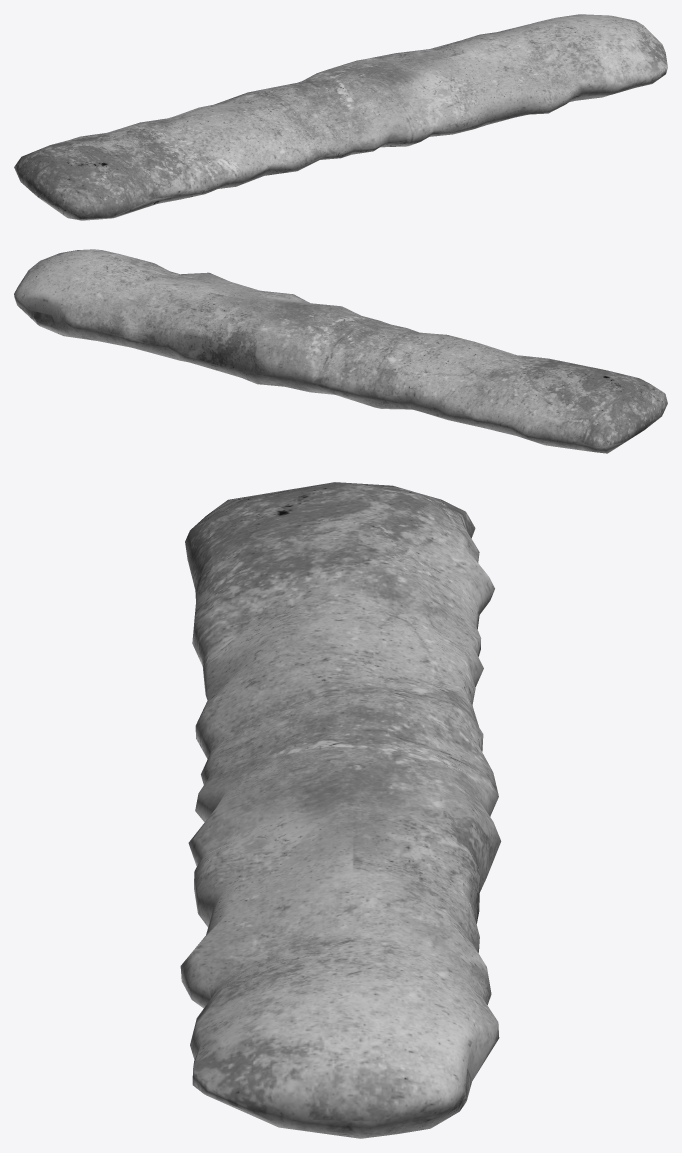
The model's file is SM_Snow_Pile_02a.fbx.
3 renders of one model, top to bottom at view 1: azimuth 30°, elevation 25°; view 2: azimuth 150°, elevation 25°; view 3: azimuth 270°, elevation 25°, orthographic. The views are drawn at different scales.
Visible parts, largest first — view 1: SM_Snow_Pile_02a_LOD0; view 2: SM_Snow_Pile_02a_LOD0; view 3: SM_Snow_Pile_02a_LOD0.
Boxes of the visible parts, x1,y1,x2,y2 form: SM_Snow_Pile_02a_LOD0: (14, 14, 667, 220); SM_Snow_Pile_02a_LOD0: (14, 249, 667, 453); SM_Snow_Pile_02a_LOD0: (180, 482, 501, 1138).
Size of the model in its own units: 387 by 87.38 by 39.25.
